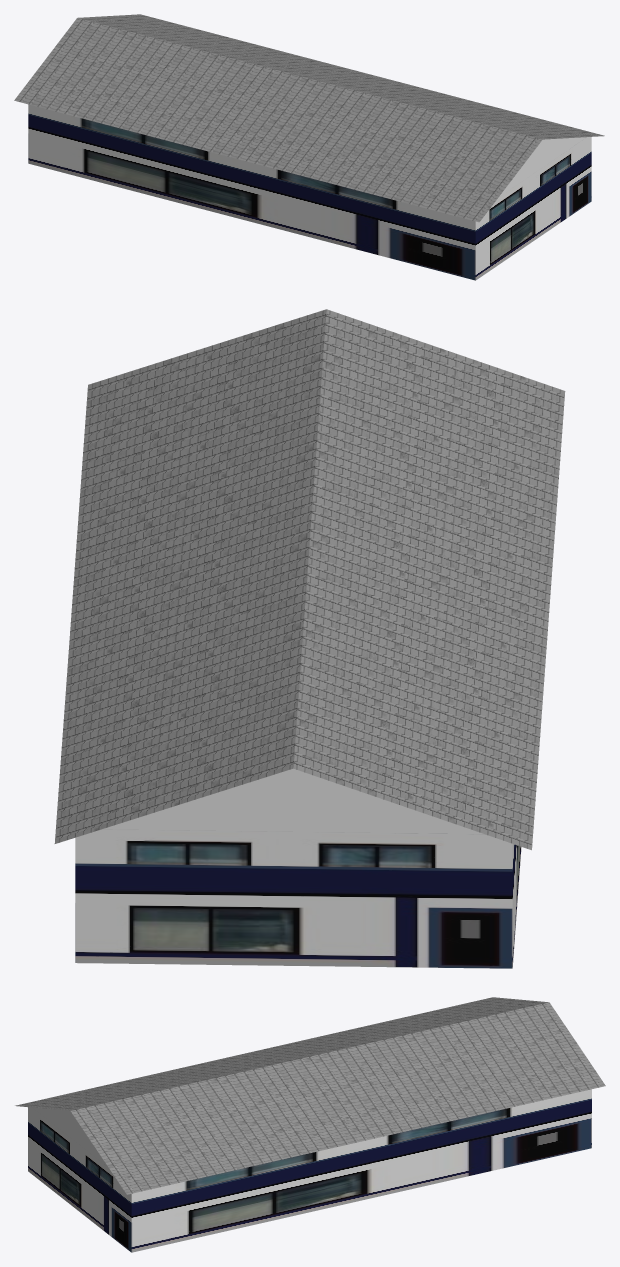
3 views of the same model, one above another, from view 1: azimuth 30°, elevation 25°; view 2: azimuth 150°, elevation 25°; view 3: azimuth 270°, elevation 25° (orthographic). The views are drawn at different scales.
Parts seen in each view (by area): view 1: CityEngineMaterial_4_m, CityEngineMaterial_2_m, CityEngineMaterial_3_m; view 2: CityEngineMaterial_4_m, CityEngineMaterial_2_m, CityEngineMaterial_3_m; view 3: CityEngineMaterial_4_m, CityEngineMaterial_2_m, CityEngineMaterial_3_m.
Part boxes in pixels (left/top/right/bottom): CityEngineMaterial_4_m: left=14, top=14, right=604, bottom=222; CityEngineMaterial_2_m: left=28, top=104, right=591, bottom=280; CityEngineMaterial_3_m: left=499, top=137, right=586, bottom=196; CityEngineMaterial_4_m: left=54, top=309, right=565, bottom=850; CityEngineMaterial_2_m: left=75, top=829, right=521, bottom=968; CityEngineMaterial_3_m: left=102, top=768, right=484, bottom=834; CityEngineMaterial_4_m: left=15, top=997, right=605, bottom=1194; CityEngineMaterial_2_m: left=28, top=1089, right=591, bottom=1252; CityEngineMaterial_3_m: left=33, top=1107, right=108, bottom=1167.
Size of the model in its own units: 44.18 by 10.75 by 55.93.
